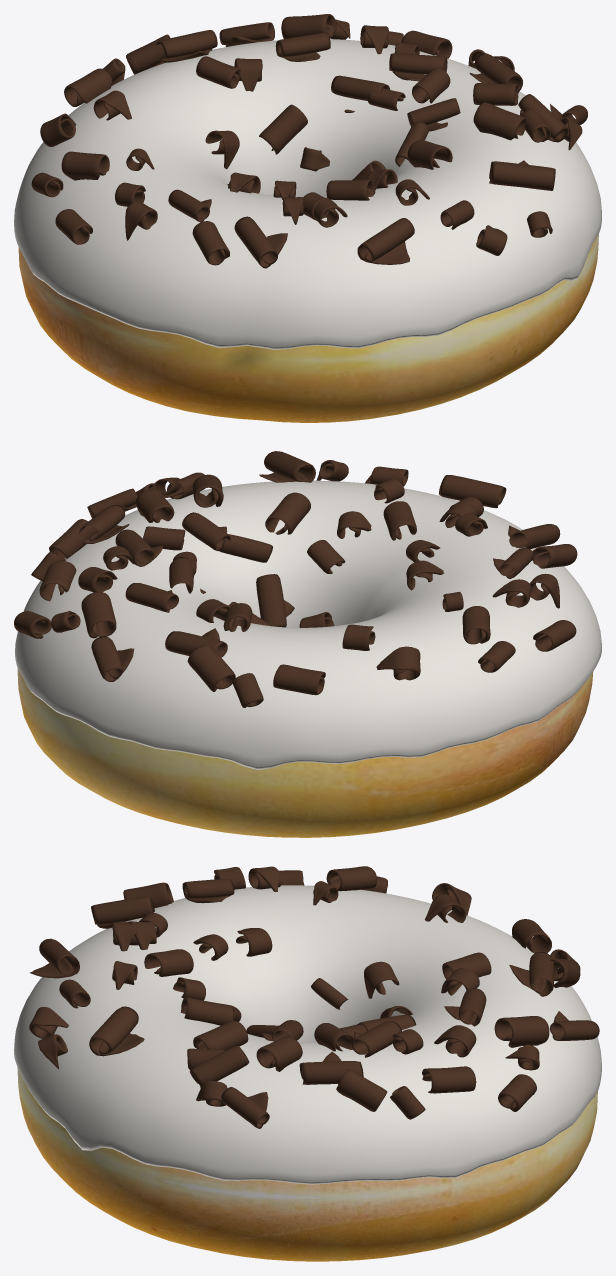
File: white dark curls.glb
The picture shows the model from 3 angles, top to bottom: view 1: azimuth 30°, elevation 25°; view 2: azimuth 150°, elevation 25°; view 3: azimuth 270°, elevation 25°; orthographic projection. The views are drawn at different scales.
Parts seen in each view (by area): view 1: chocolate.003, choco & straw, Torus; view 2: chocolate.003, choco & straw, Torus; view 3: chocolate.003, choco & straw, Torus.
Boxes of the visible parts, x1,y1,x2,y2 form: chocolate.003: (14,39,601,349); choco & straw: (31,14,587,268); Torus: (18,234,598,422); chocolate.003: (15,480,601,769); choco & straw: (14,451,577,707); Torus: (17,668,592,837); chocolate.003: (14,885,601,1184); choco & straw: (29,866,599,1128); Torus: (17,1067,597,1261).
Bounding box in the file's own units: 0.1988 × 0.0804 × 0.1971.
Materials: 3 (1 with a texture image).
